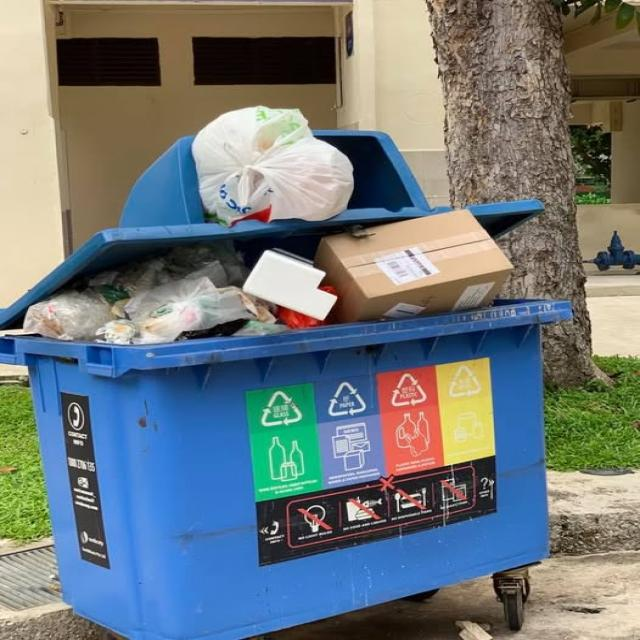bin_full: (6, 132, 556, 634)
bulk_waste: (312, 208, 512, 324)
normal_waste: (25, 245, 284, 344), (194, 106, 350, 224)
